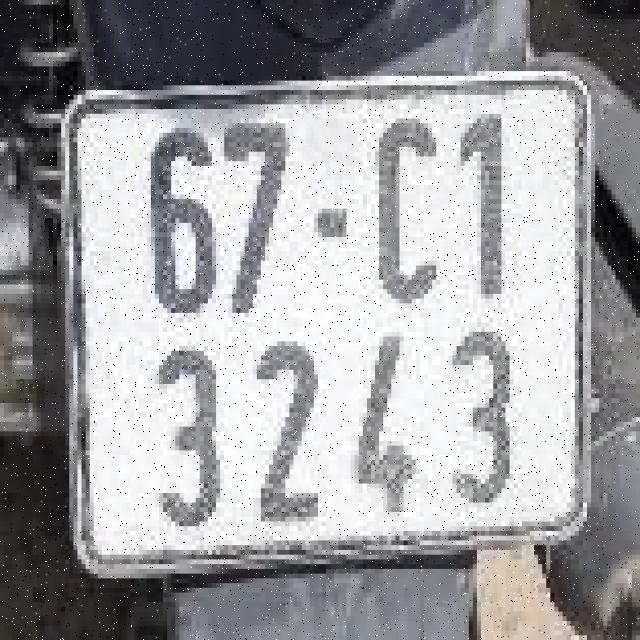1: (452, 102, 514, 306)
2: (238, 339, 336, 552)
3: (436, 306, 534, 533), (142, 325, 236, 543)
4: (340, 313, 426, 526)
6: (124, 116, 214, 315)
7: (220, 109, 285, 313)
C: (346, 92, 448, 320)
